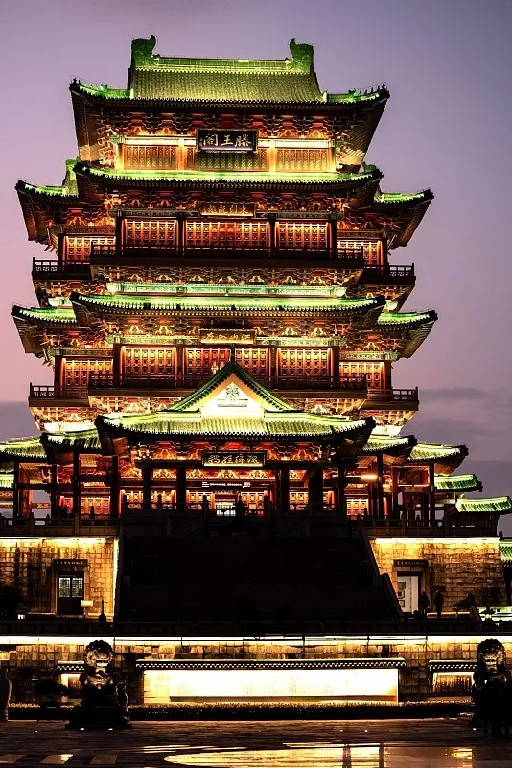Teng: (1, 36, 512, 524)
